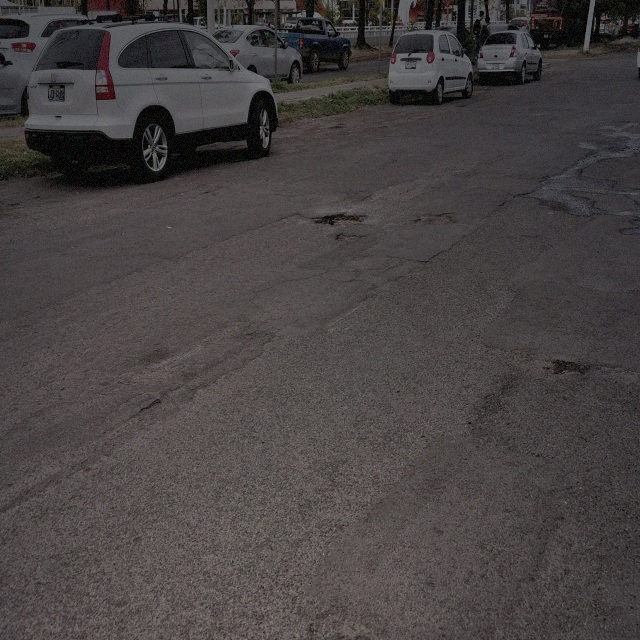pothole: (508, 342, 582, 379), (312, 208, 369, 229), (412, 211, 458, 229)
